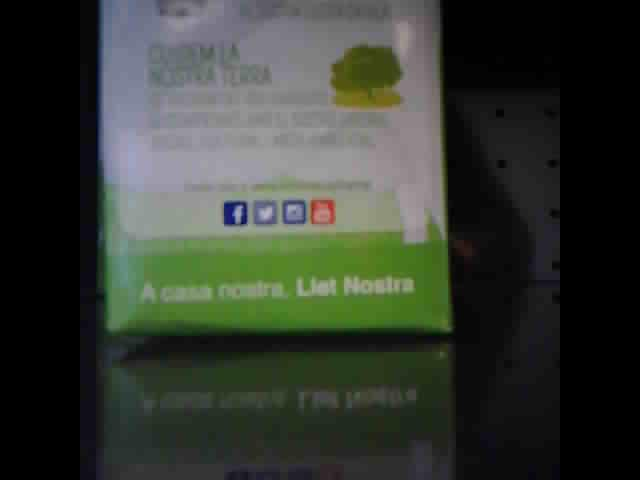leche: (101, 3, 444, 339)
